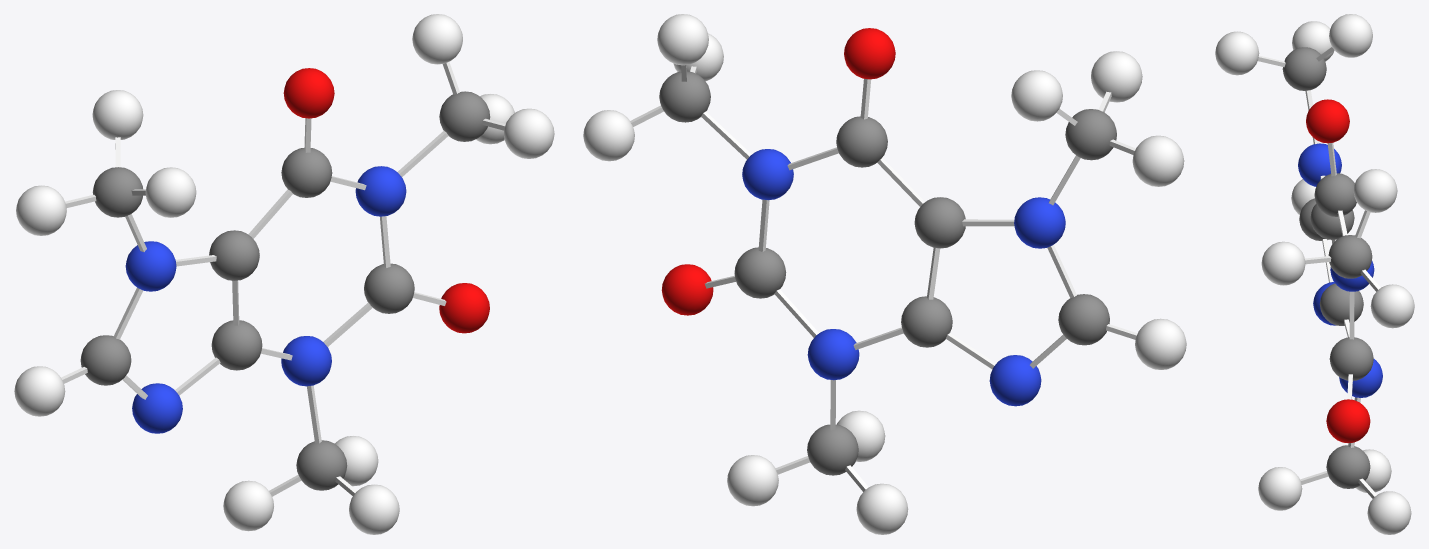
File: Caffeine.glb
3 renders of one model, left to right at view 1: azimuth 30°, elevation 25°; view 2: azimuth 150°, elevation 25°; view 3: azimuth 270°, elevation 25°, orthographic. The views are drawn at different scales.
Visible parts, largest first — view 1: nodes[20], nodes[19], nodes[17], nodes[14], nodes[11], nodes[22], nodes[16], nodes[23], nodes[18], nodes[1], nodes[7], nodes[3] (+12 smaller); view 2: nodes[18], nodes[23], nodes[11], nodes[16], nodes[20], nodes[15], nodes[14], nodes[21], nodes[3], nodes[4], nodes[5], nodes[6] (+12 smaller); view 3: nodes[15], nodes[18], nodes[19], nodes[23], nodes[10], nodes[11], nodes[17], nodes[21], nodes[22], nodes[1], nodes[12], nodes[9] (+13 smaller).
Boxes of the visible parts, box(x1,y1,x2,y2) form: nodes[20]: box(16, 185, 66, 235); nodes[19]: box(145, 167, 196, 217); nodes[17]: box(349, 484, 399, 534); nodes[14]: box(14, 366, 65, 416); nodes[11]: box(283, 68, 334, 118); nodes[22]: box(503, 108, 554, 158); nodes[16]: box(223, 480, 273, 531); nodes[23]: box(412, 14, 462, 64); nodes[18]: box(92, 90, 143, 139); nodes[1]: box(364, 263, 414, 313); nodes[7]: box(80, 335, 131, 385); nodes[3]: box(281, 147, 332, 197); nodes[18]: box(1011, 70, 1062, 121); nodes[23]: box(657, 14, 708, 65); nodes[11]: box(844, 28, 895, 79); nodes[16]: box(856, 483, 908, 534); nodes[20]: box(1132, 135, 1184, 186); nodes[15]: box(727, 455, 778, 506); nodes[14]: box(1135, 318, 1186, 369); nodes[21]: box(583, 110, 634, 161); nodes[3]: box(836, 116, 887, 167); nodes[4]: box(914, 197, 965, 248); nodes[5]: box(901, 296, 952, 347); nodes[6]: box(1014, 197, 1065, 248); nodes[15]: box(1367, 491, 1411, 534); nodes[18]: box(1329, 14, 1372, 57); nodes[19]: box(1215, 31, 1259, 75); nodes[23]: box(1353, 169, 1397, 212); nodes[10]: box(1326, 399, 1370, 443); nodes[11]: box(1306, 99, 1349, 143); nodes[17]: box(1258, 467, 1302, 510); nodes[21]: box(1370, 284, 1414, 328); nodes[22]: box(1261, 241, 1305, 285); nodes[1]: box(1329, 337, 1373, 380); nodes[12]: box(1282, 47, 1326, 90); nodes[9]: box(1326, 445, 1370, 488).
Bounding box in the file's own units: 61.33 × 51.95 × 22.63.
